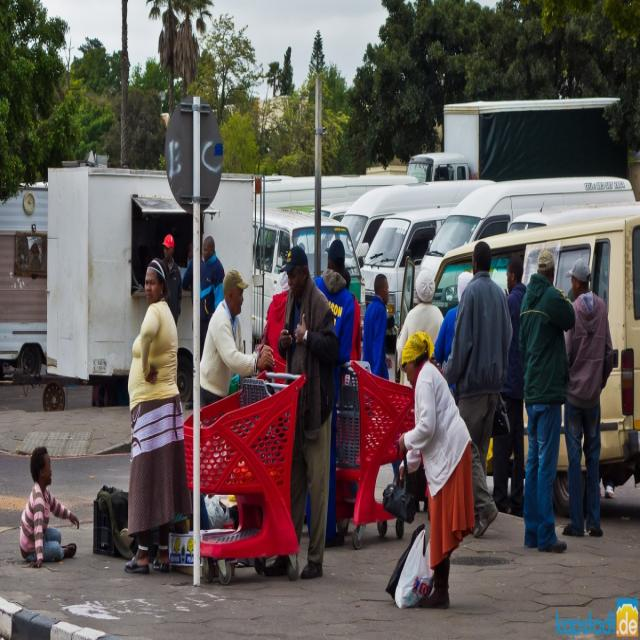Pedestrians: (385, 329, 499, 606), (120, 256, 187, 575), (19, 437, 82, 564)
